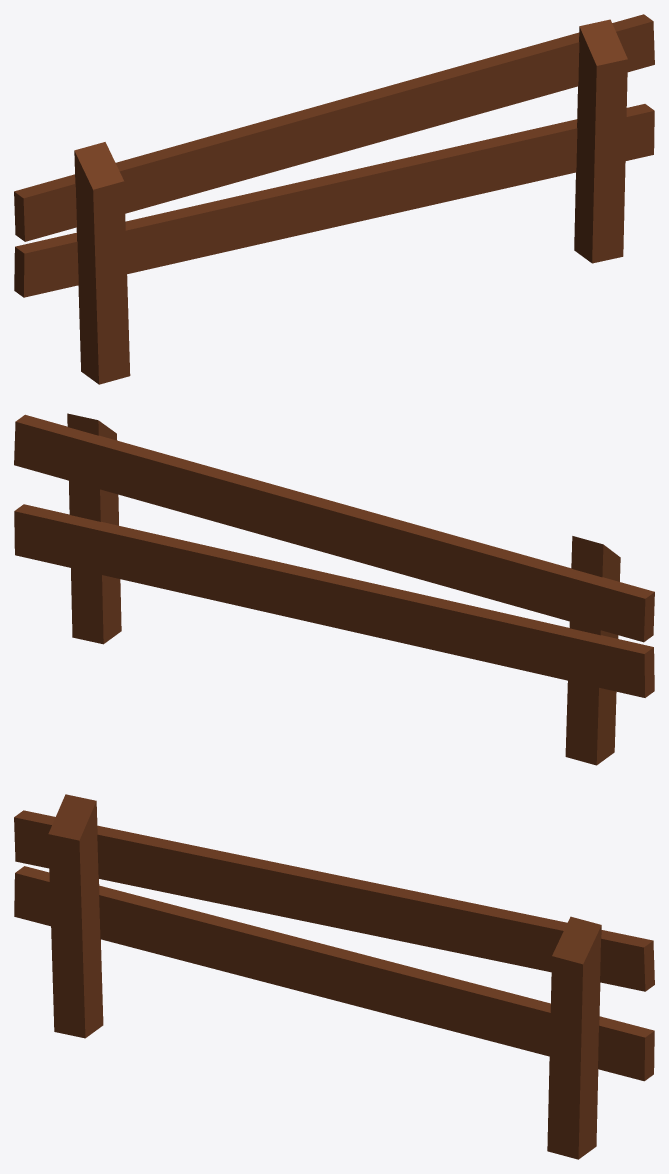
The model's file is fence1.fbx.
3 views of the same model, one above another, from view 1: azimuth 30°, elevation 25°; view 2: azimuth 150°, elevation 25°; view 3: azimuth 330°, elevation 25° (orthographic).
Visible parts, largest first — view 1: pCube12; view 2: pCube12; view 3: pCube12.
Boxes of the visible parts, x1,y1,x2,y2 form: pCube12: [14, 14, 654, 384]; pCube12: [14, 413, 654, 765]; pCube12: [14, 794, 654, 1159].
Size of the model in its own units: 28.68 by 9.72 by 2.14.
